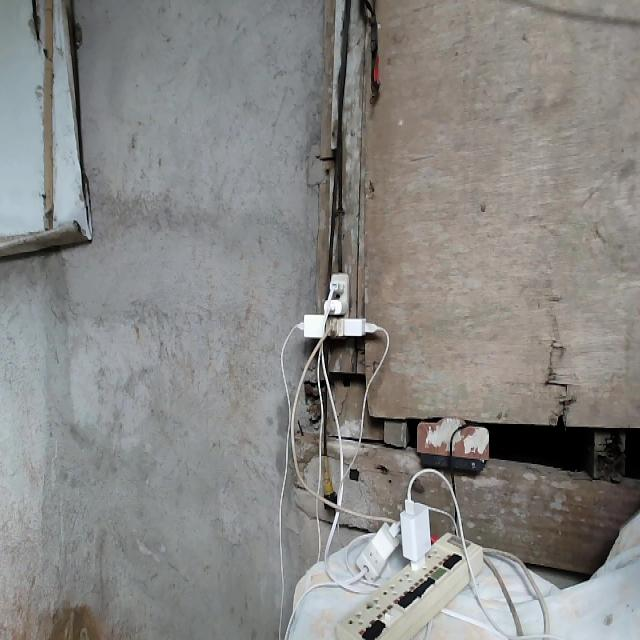-: (295, 267, 381, 340)
